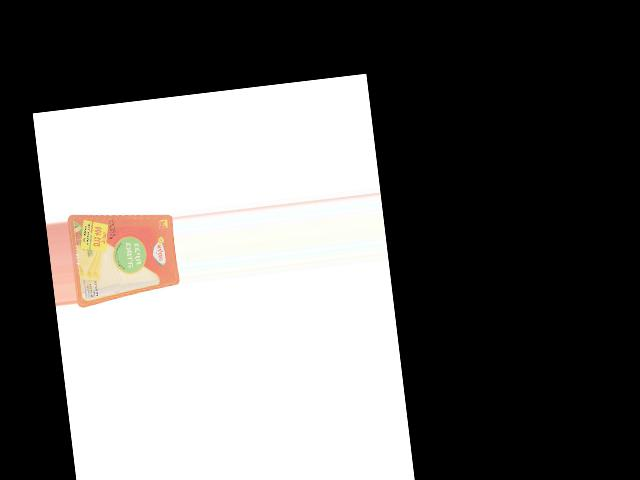cheese: (66, 203, 180, 307)
